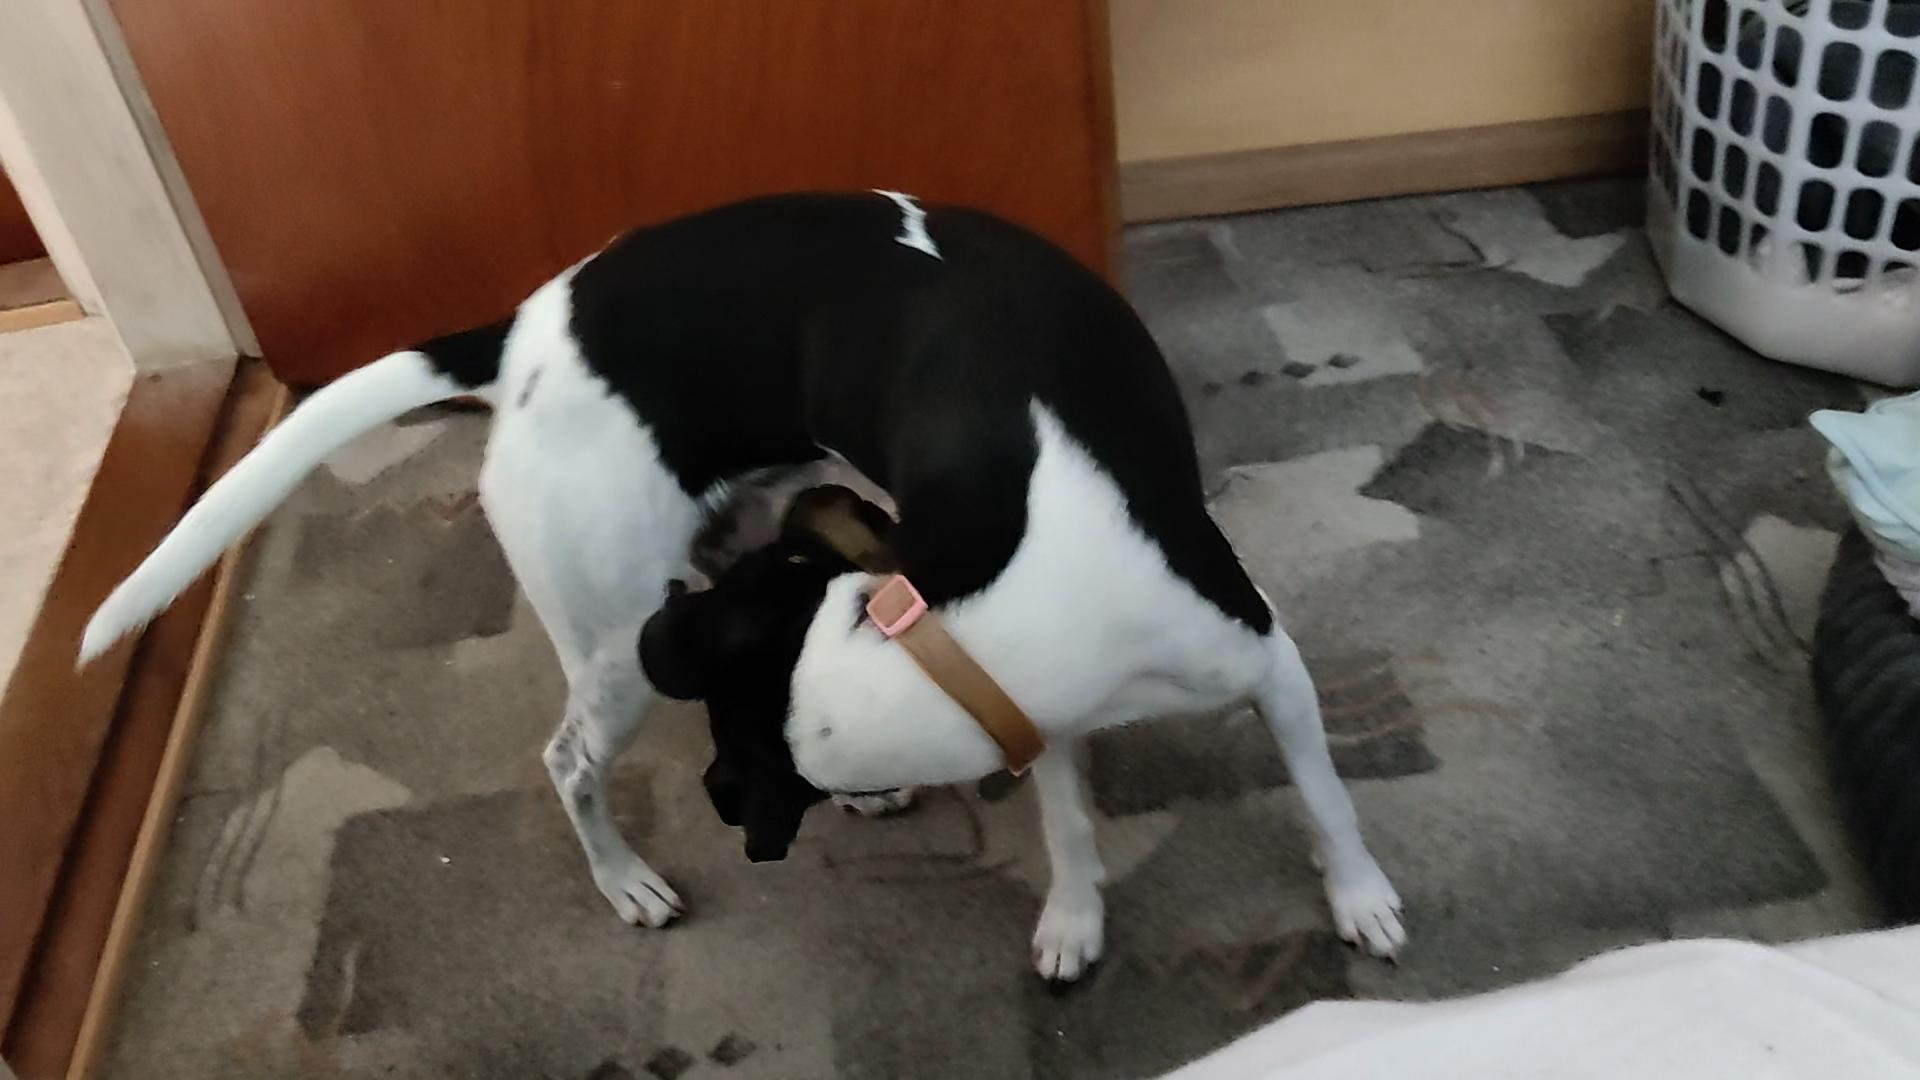Dog: (73, 174, 1419, 992)
